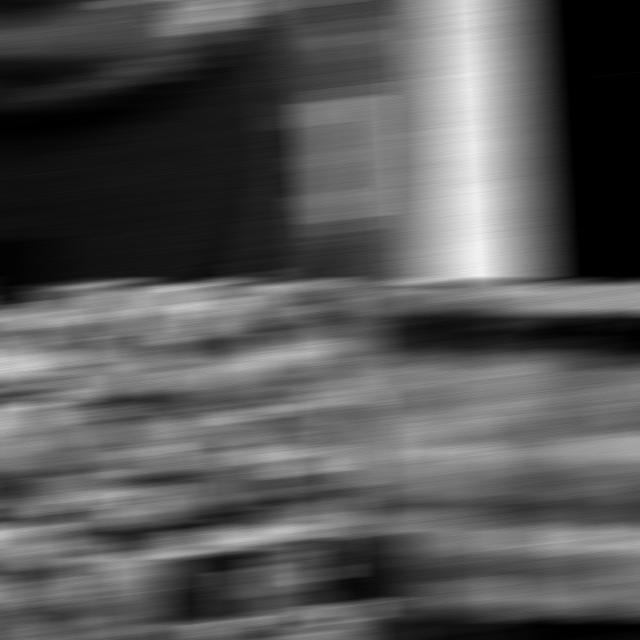Airbag: (0, 282, 370, 639), (0, 1, 370, 280), (346, 1, 551, 280)
